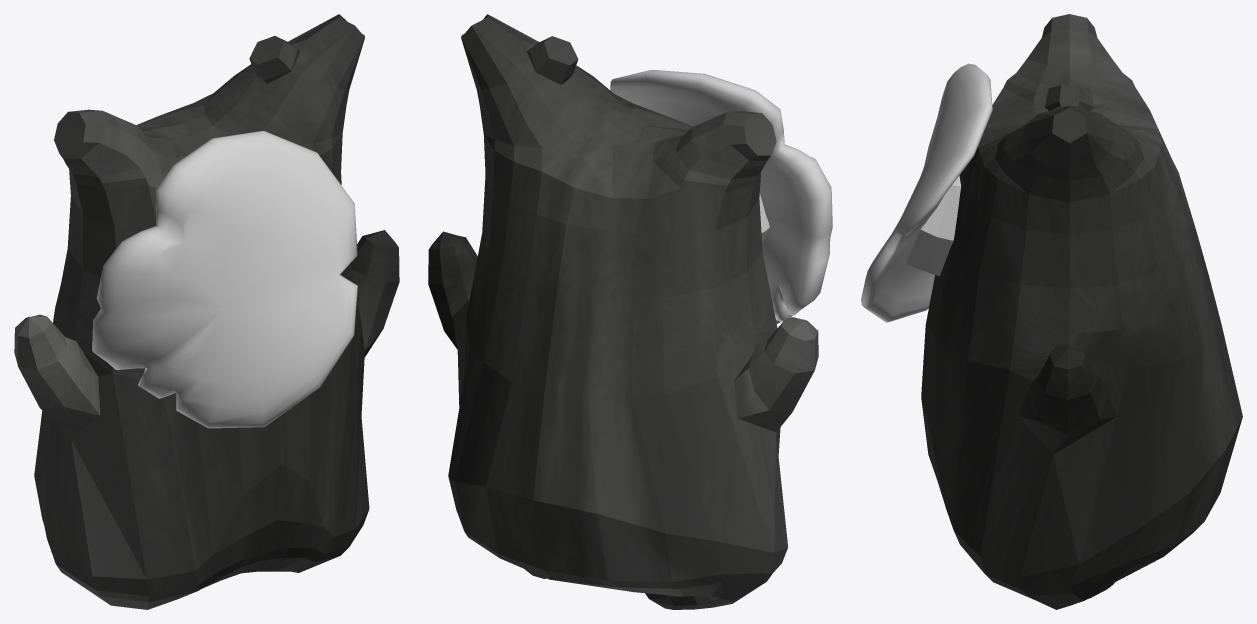
The model's file is frame_0056.obj.
3 renders of one model, left to right at view 1: azimuth 30°, elevation 25°; view 2: azimuth 150°, elevation 25°; view 3: azimuth 270°, elevation 25°, orthographic. The views are drawn at different scales.
Parts seen in each view (by area): view 1: korok, leaf; view 2: korok, leaf; view 3: korok, leaf, nose.
Boxes of the visible parts, x1,y1,x2,y2 form: korok: (14,14,399,609); leaf: (92,131,357,428); korok: (428,14,818,609); leaf: (610,70,832,323); korok: (921,14,1242,609); leaf: (861,63,992,322); nose: (906,175,961,275).
Bounding box in the file's own units: 1.54 × 2.06 × 1.37.
